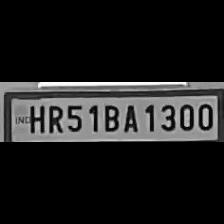0: (195, 100, 213, 132), (177, 101, 195, 131)
1: (139, 102, 157, 134), (84, 102, 100, 134)
3: (158, 101, 176, 133)
5: (64, 101, 84, 133)
A: (120, 101, 140, 133)
B: (100, 101, 120, 133)
H: (23, 102, 45, 134)
R: (45, 102, 63, 136)
